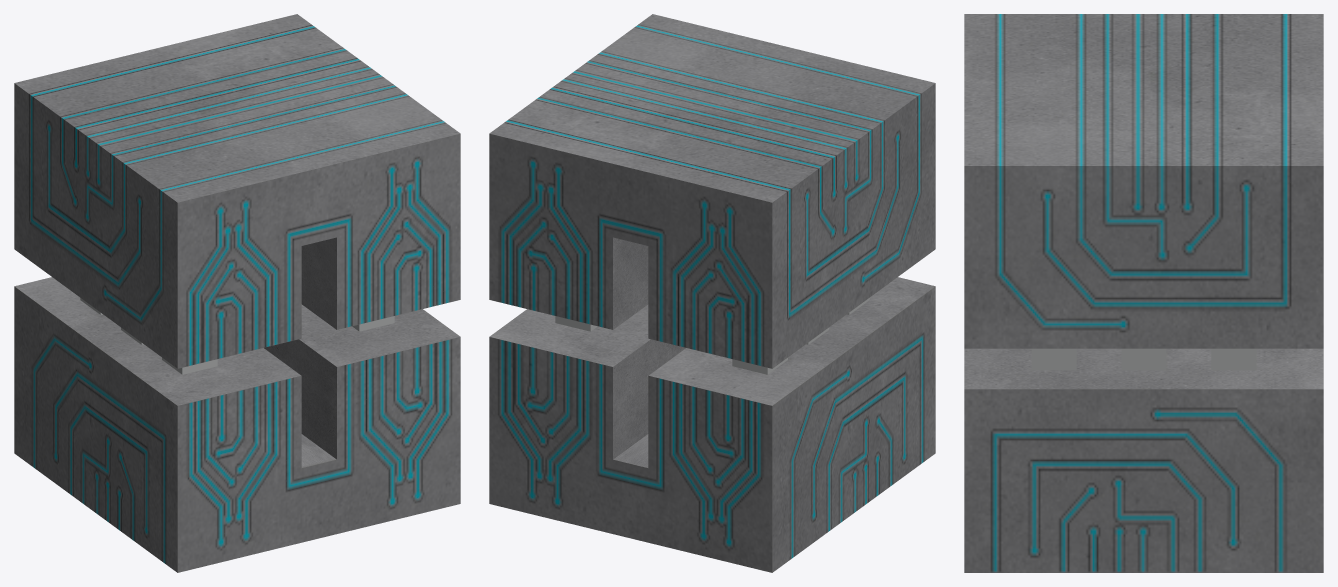
Rendered from Shiv-tron-block.fbx.
3 views of the same model, side by side, from view 1: azimuth 30°, elevation 25°; view 2: azimuth 150°, elevation 25°; view 3: azimuth 270°, elevation 25° (orthographic). The views are drawn at different scales.
Parts seen in each view (by area): view 1: polySurface6; view 2: polySurface6; view 3: polySurface6.
Boxes of the visible parts, x1,y1,x2,y2 form: polySurface6: [14, 14, 460, 572]; polySurface6: [489, 14, 935, 572]; polySurface6: [964, 14, 1323, 572].
Bounding box in the file's own units: 8 × 10 × 8.
2 materials, 1 textured.
